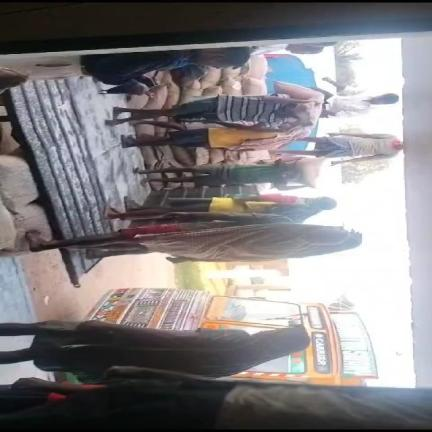Zone-Counting: (107, 82, 323, 131), (134, 158, 322, 190)
